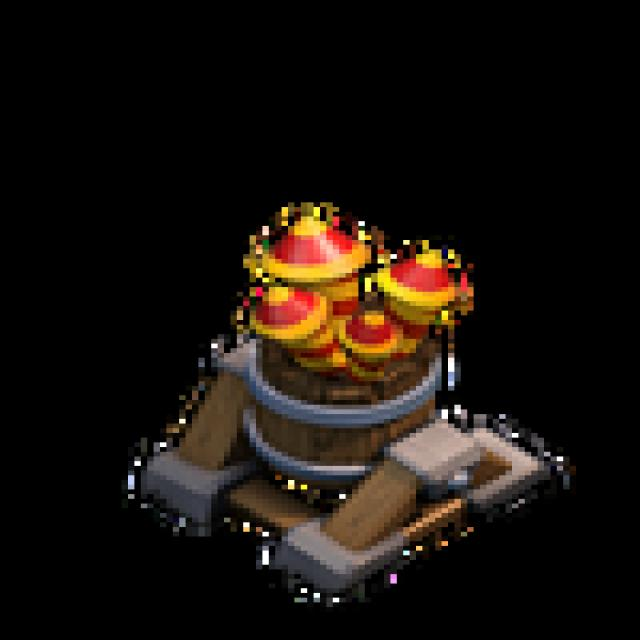air_defense: (115, 189, 568, 619)
